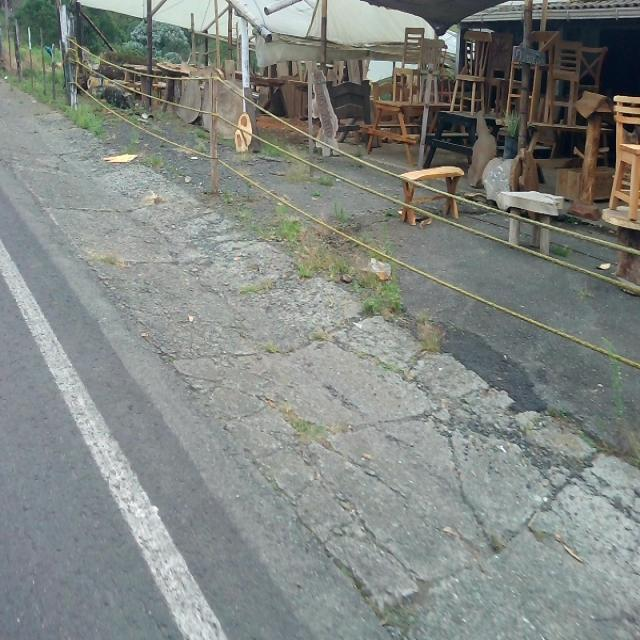DITCH: (1, 72, 638, 638)
